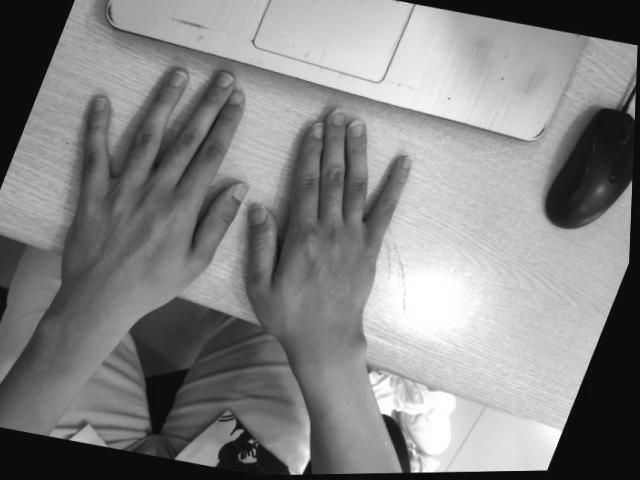not-gloved: (59, 68, 243, 314), (245, 111, 412, 333)
